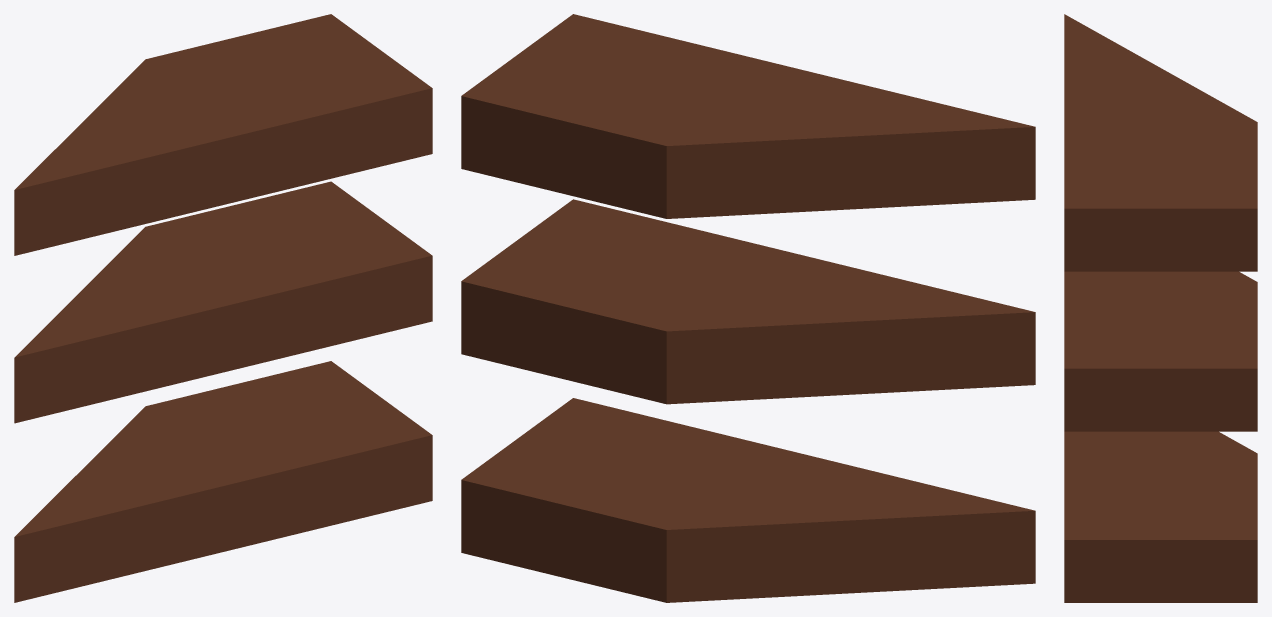
Rendered from wall_shelf_end_cap_1.fbx.
3 views of the same model, side by side, from view 1: azimuth 30°, elevation 25°; view 2: azimuth 150°, elevation 25°; view 3: azimuth 270°, elevation 25° (orthographic). The views are drawn at different scales.
Parts seen in each view (by area): view 1: polySurface15; view 2: polySurface15; view 3: polySurface15.
Boxes of the visible parts, left/top/right/bottom form: polySurface15: left=14, top=14, right=432, bottom=602; polySurface15: left=461, top=14, right=1035, bottom=602; polySurface15: left=1064, top=14, right=1257, bottom=602.
Bounding box in the file's own units: 21.17 × 19.98 × 8.88.
